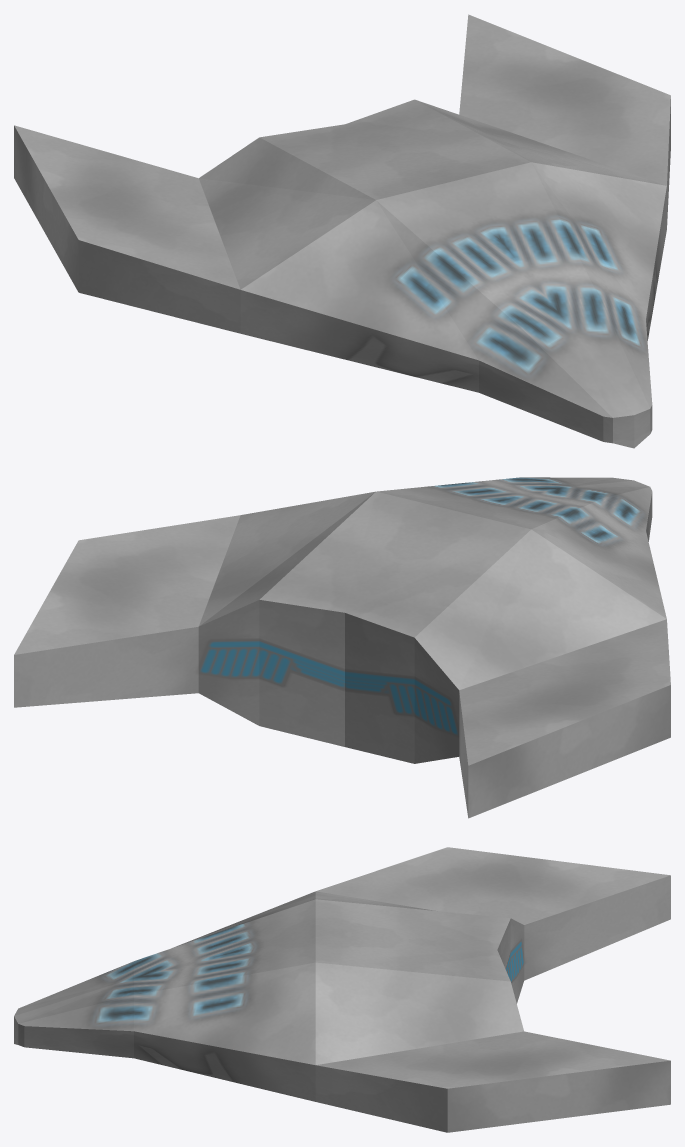
Rendered from ship.obj.
The picture shows the model from 3 angles, top to bottom: view 1: azimuth 30°, elevation 25°; view 2: azimuth 150°, elevation 25°; view 3: azimuth 270°, elevation 25°; orthographic projection. The views are drawn at different scales.
Visible parts, largest first — view 1: cube1; view 2: cube1; view 3: cube1.
Part boxes in pixels (x1,y1,x2,y2): cube1: (14, 14, 670, 448); cube1: (14, 477, 670, 818); cube1: (14, 847, 670, 1132).
Bounding box in the file's own units: 1.3 × 0.3281 × 1.49.
Materials: 1 (1 with a texture image).
